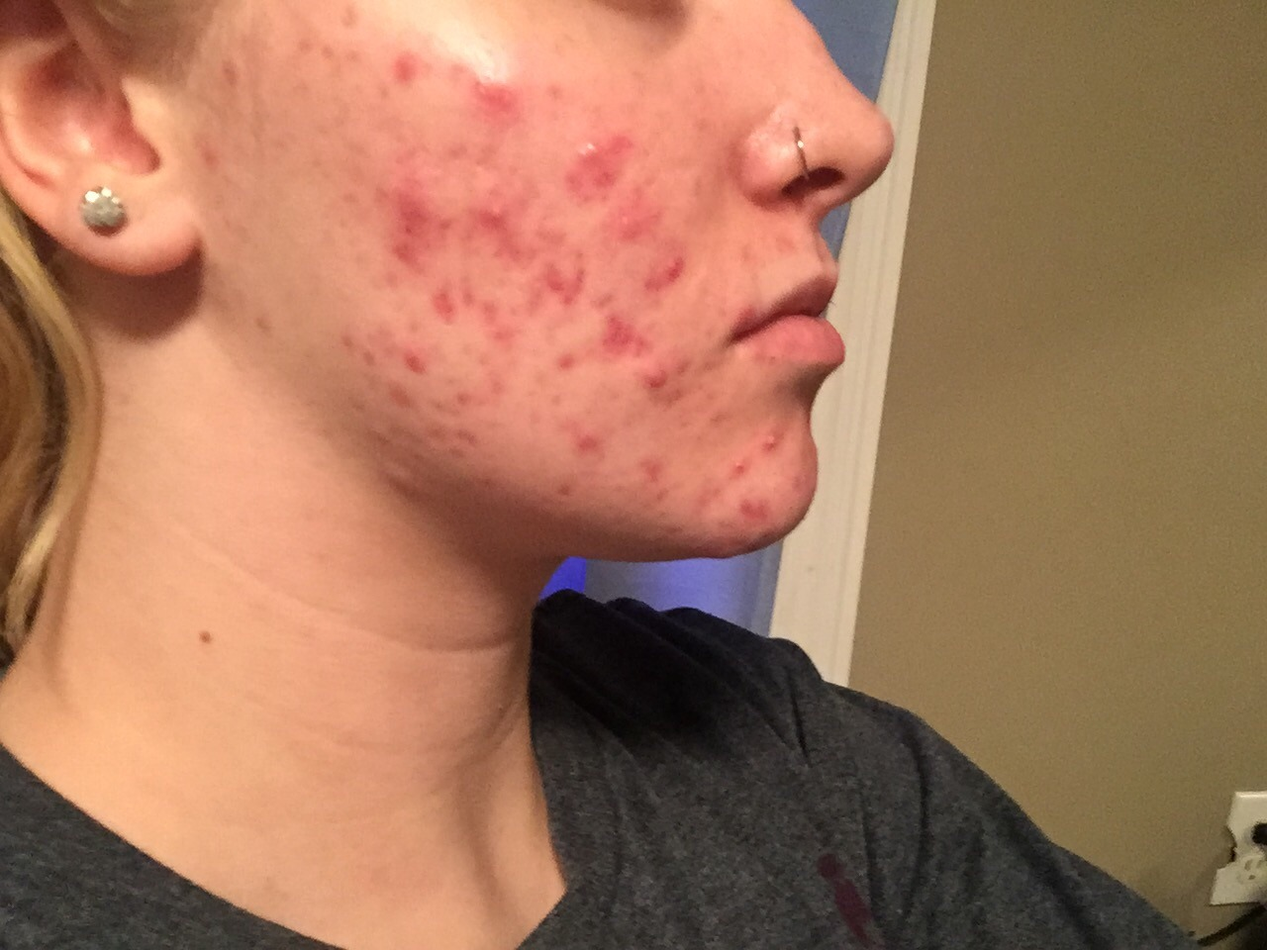Acne: (567, 126, 616, 195), (745, 416, 799, 465)
